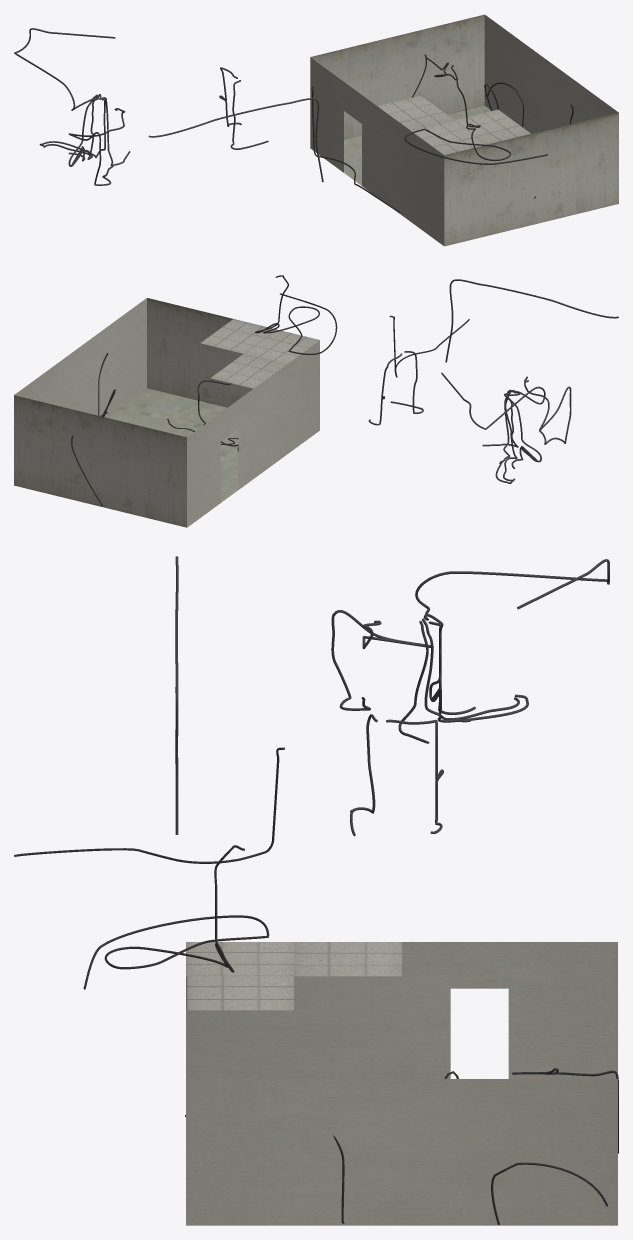
The model's file is cables.glb.
The picture shows the model from 3 angles, top to bottom: view 1: azimuth 30°, elevation 25°; view 2: azimuth 150°, elevation 25°; view 3: azimuth 270°, elevation 25°; orthographic projection. The views are drawn at different scales.
Visible parts, largest first — view 1: HospitalWalls3, BezierCurve, BezierCurve.002, BezierCurve.001; view 2: HospitalWalls3, BezierCurve, BezierCurve.002, BezierCurve.001; view 3: HospitalWalls3, BezierCurve, BezierCurve.002, BezierCurve.001.
Part boxes in pixels (box(x1,y1,x2,y2)): HospitalWalls3: box(310, 14, 618, 246); BezierCurve: box(14, 28, 323, 185); BezierCurve.002: box(311, 65, 547, 212); BezierCurve.001: box(411, 54, 573, 198); HospitalWalls3: box(14, 298, 319, 527); BezierCurve: box(368, 279, 618, 483); BezierCurve.002: box(255, 275, 469, 377); BezierCurve.001: box(71, 353, 238, 506); HospitalWalls3: box(186, 942, 617, 1225); BezierCurve: box(175, 556, 609, 836); BezierCurve.002: box(14, 747, 284, 989); BezierCurve.001: box(185, 1068, 618, 1225).
Bounding box in the file's own units: 46.05 × 17.92 × 31.58.
4 materials, 1 textured.
